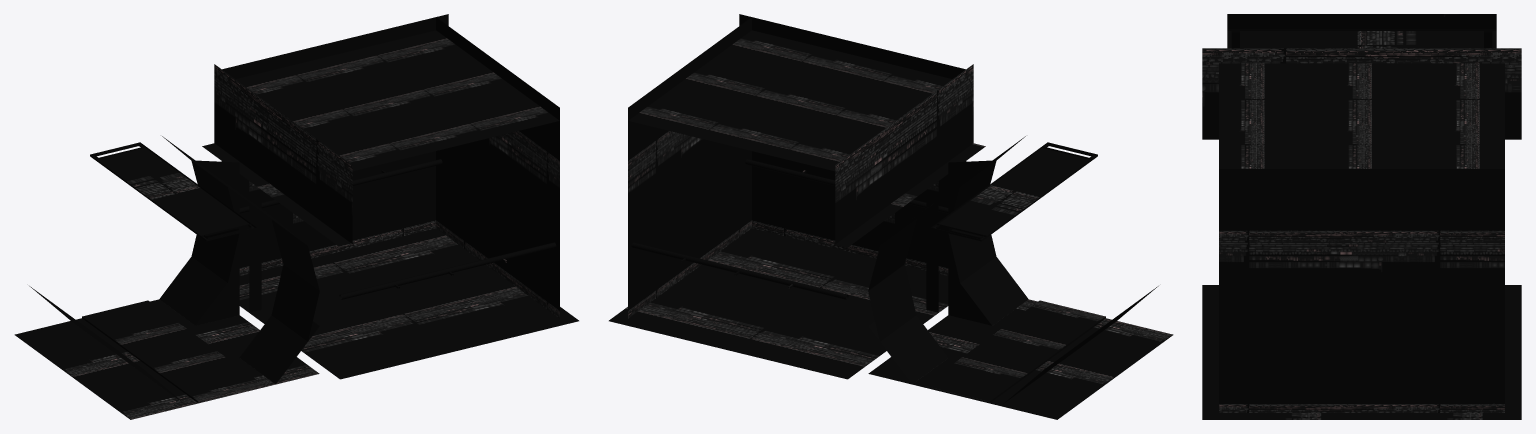
The model's file is mt_elevator.obj.
3 renders of one model, left to right at view 1: azimuth 30°, elevation 25°; view 2: azimuth 150°, elevation 25°; view 3: azimuth 270°, elevation 25°, orthographic. The views are drawn at different scales.
Bounding box in the file's own units: 1112 × 512 × 608.
